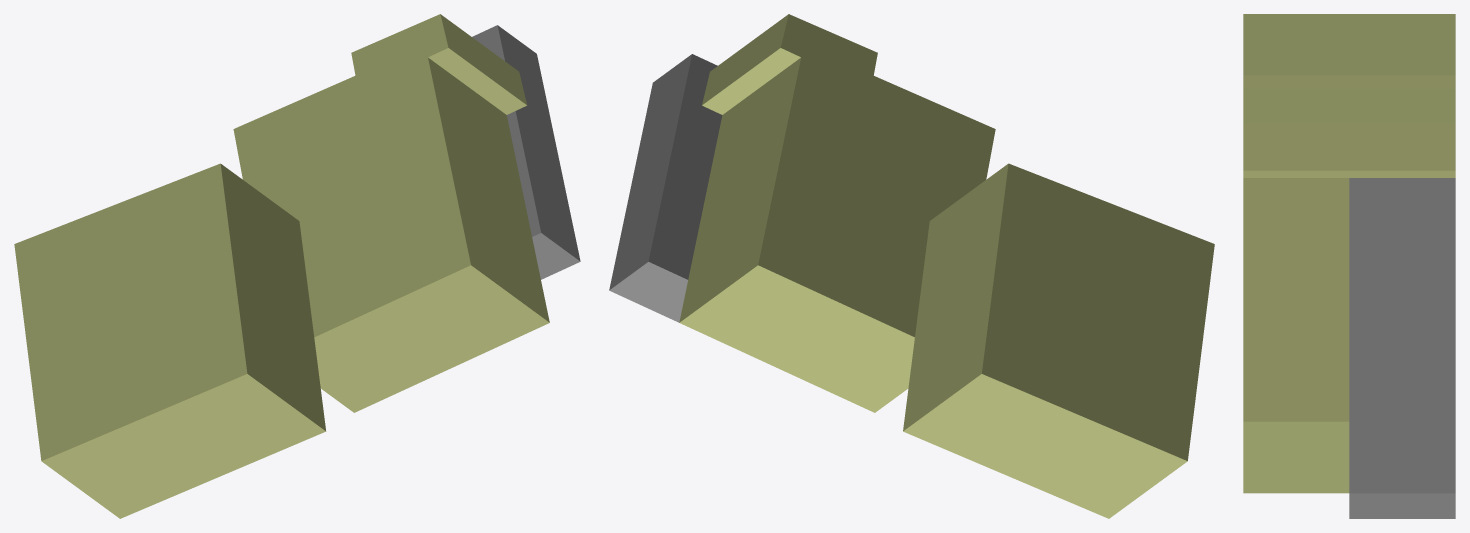
3 views of the same model, side by side, from view 1: azimuth 30°, elevation 25°; view 2: azimuth 150°, elevation 25°; view 3: azimuth 270°, elevation 25° (orthographic). The views are drawn at different scales.
Visible parts, largest first — view 1: 0_1_1_3_3_1_3_1_0_1; view 2: 0_1_1_3_3_1_3_1_0_1; view 3: 0_1_1_3_3_1_3_1_0_1.
Part boxes in pixels (x1=…): 0_1_1_3_3_1_3_1_0_1: x1=14, y1=14, x2=580, y2=518; 0_1_1_3_3_1_3_1_0_1: x1=609, y1=14, x2=1214, y2=518; 0_1_1_3_3_1_3_1_0_1: x1=1243, y1=14, x2=1455, y2=518.
Bounding box in the file's own units: 23.16 × 14.7 × 6.
